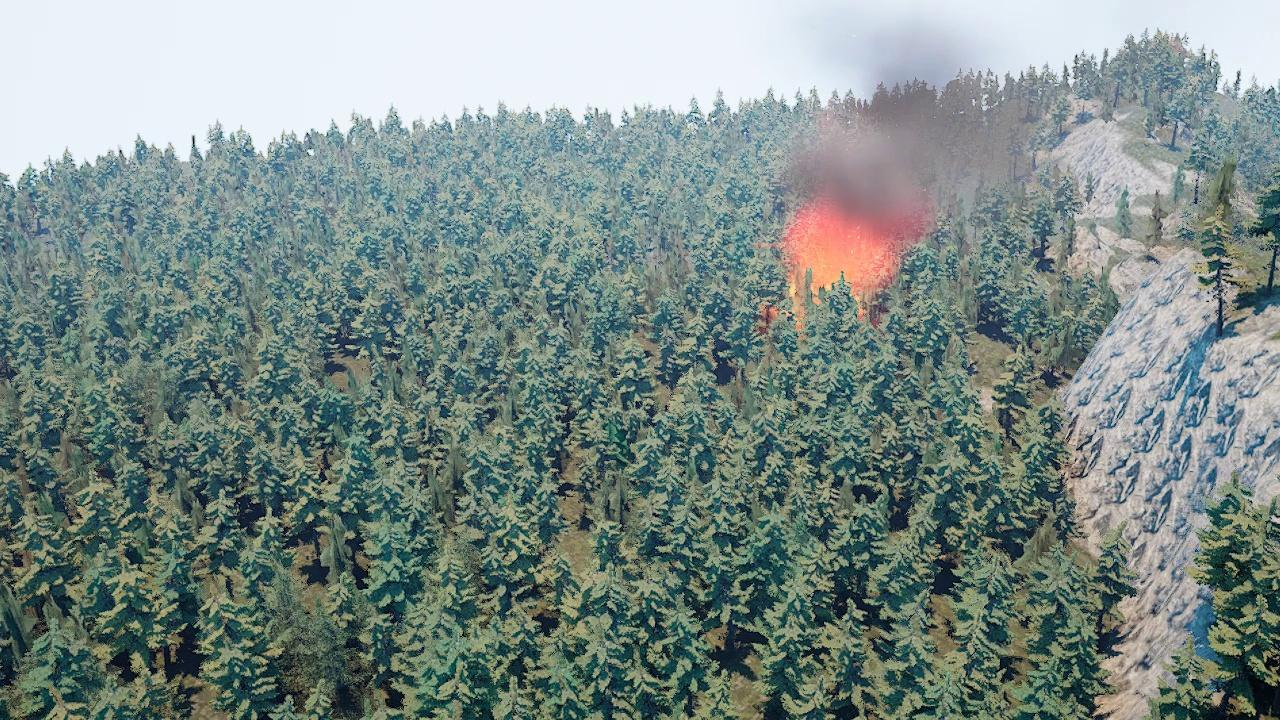fire: (782, 217, 864, 327)
smoke: (780, 24, 1023, 286)
